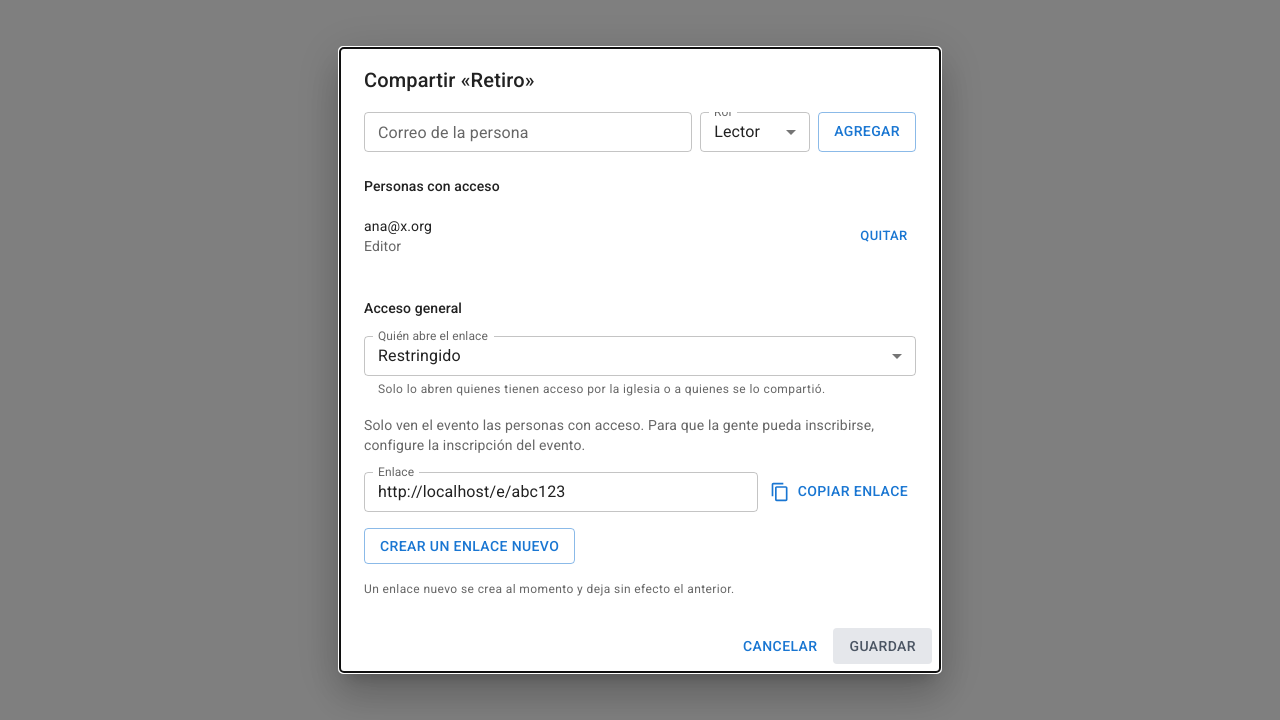
it: ShareEventDialog › adds a person to the draft, marks it unsaved and clears the form
Type "luis@x.org" into the field labelled "Correo de la persona". click: (528, 132)
box: [364,112,692,152]
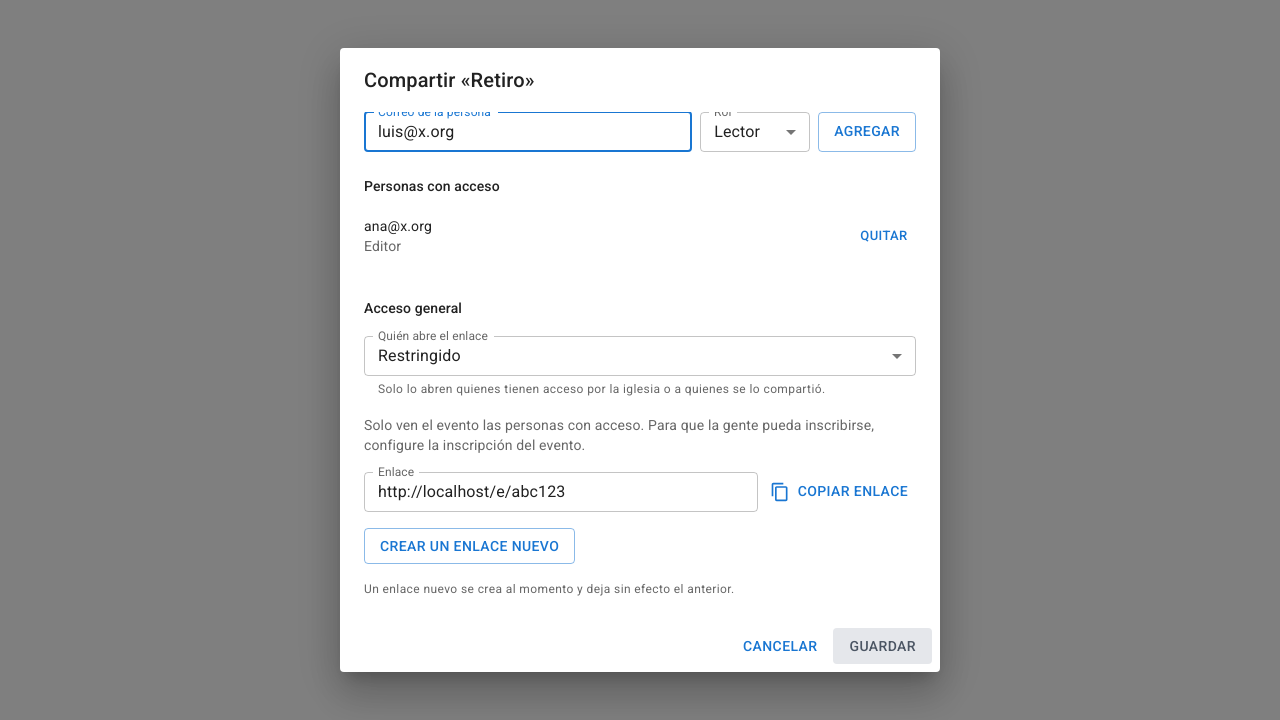
Click the dropdown named "Rol". click: (737, 132)
box: [714,122,760,141]
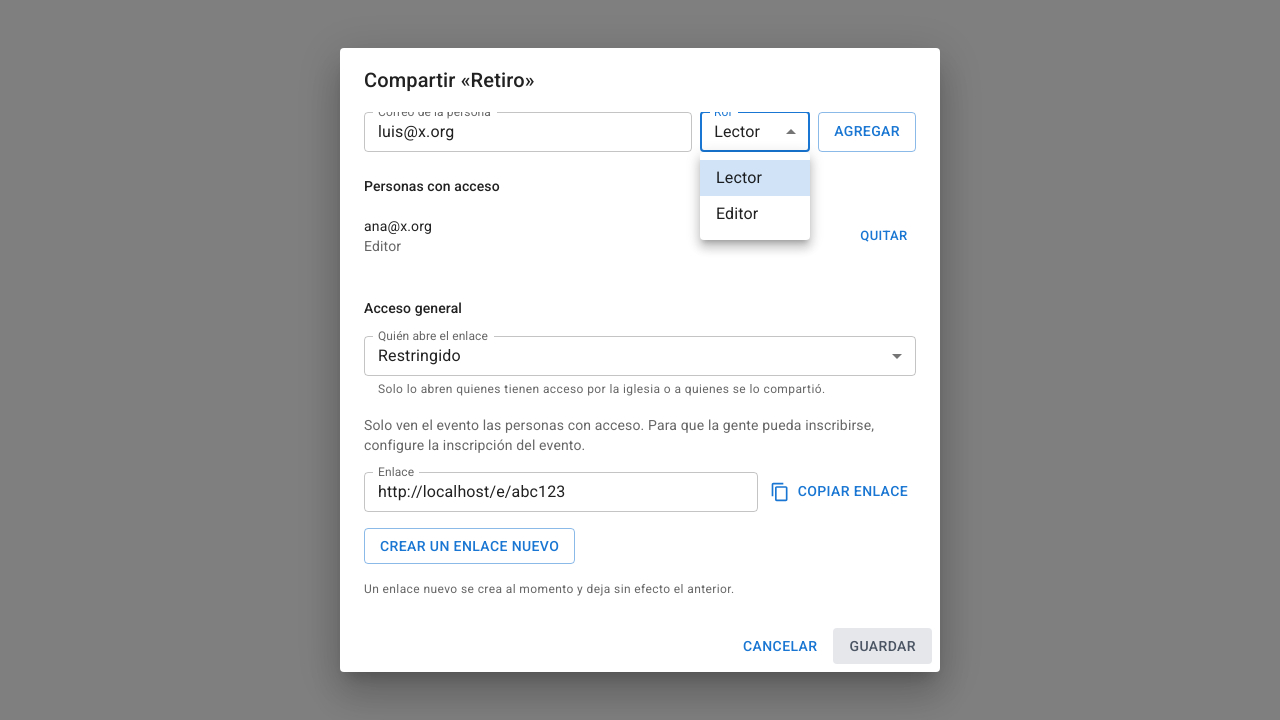
Click the option "Editor". click: (737, 214)
box: [716,204,758,223]
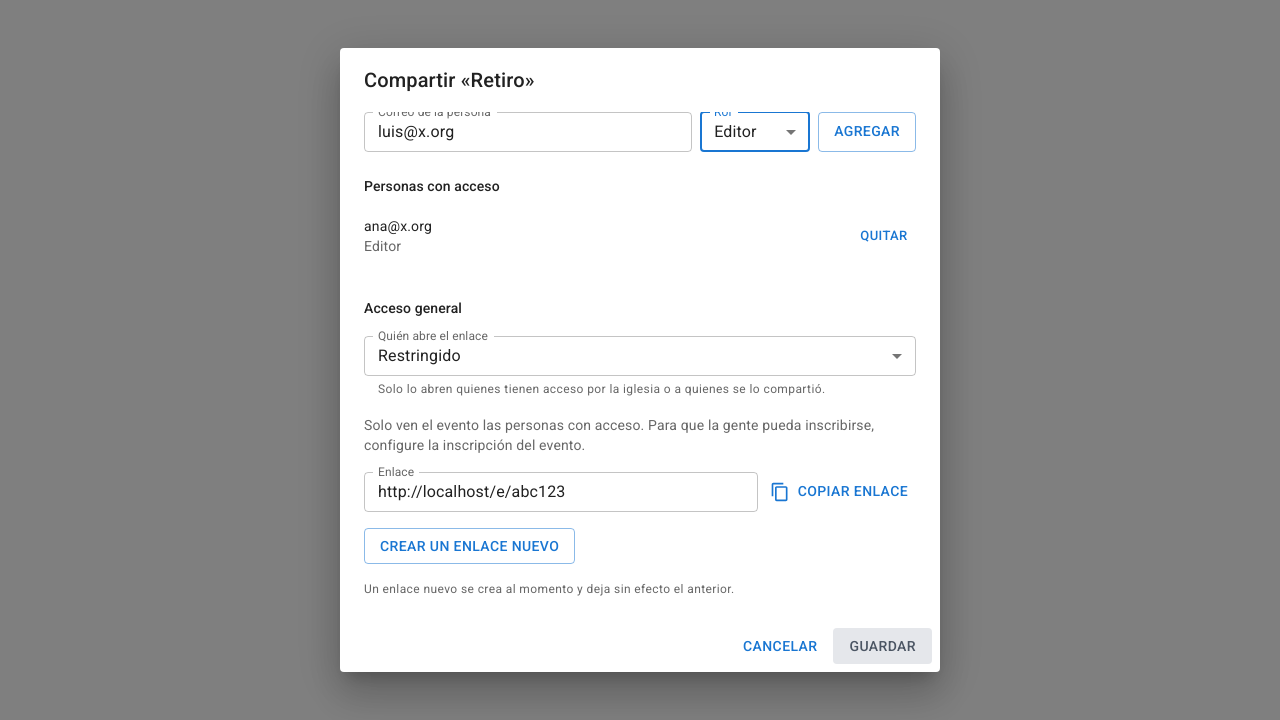
Click the button "Agregar". click: (867, 132)
box: [818,112,916,152]
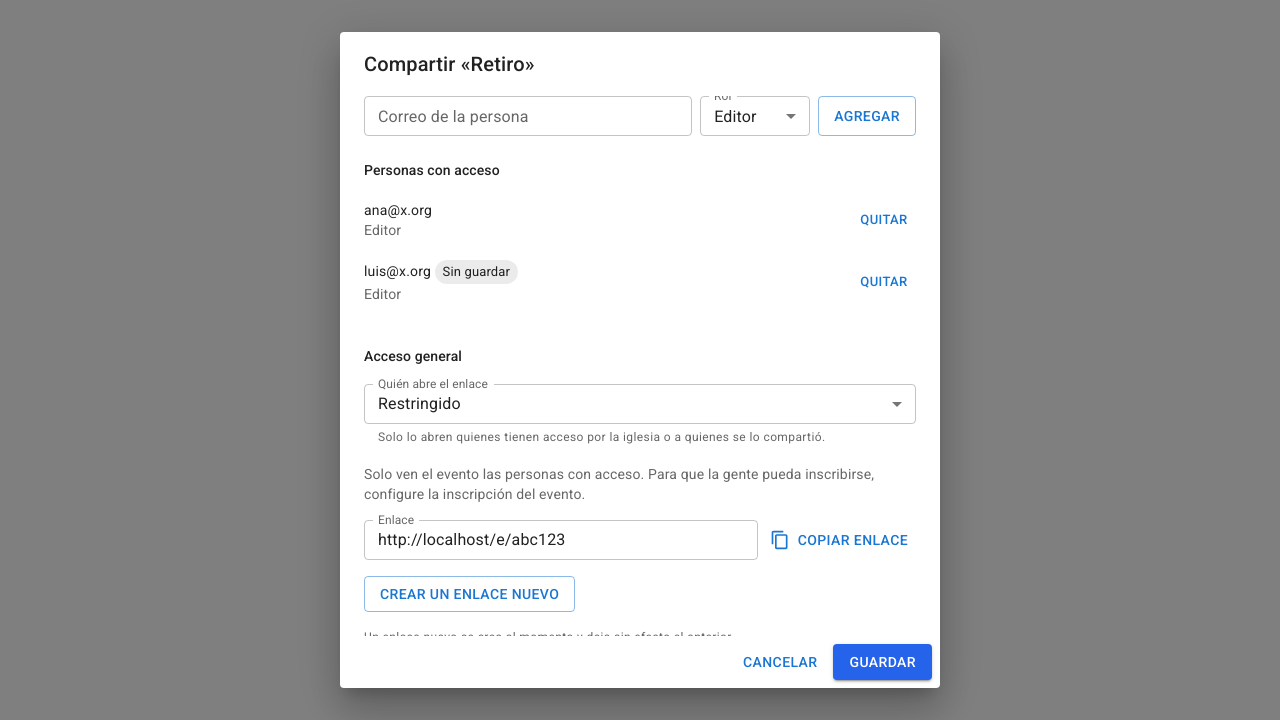
Now the text "luis@x.org" is shown, box [364,263,431,279]
Now the text "Sin guardar" is shown, box [442,264,510,279]
Now the field labelled "Correo de la persona" is empty, box [364,96,692,136]
